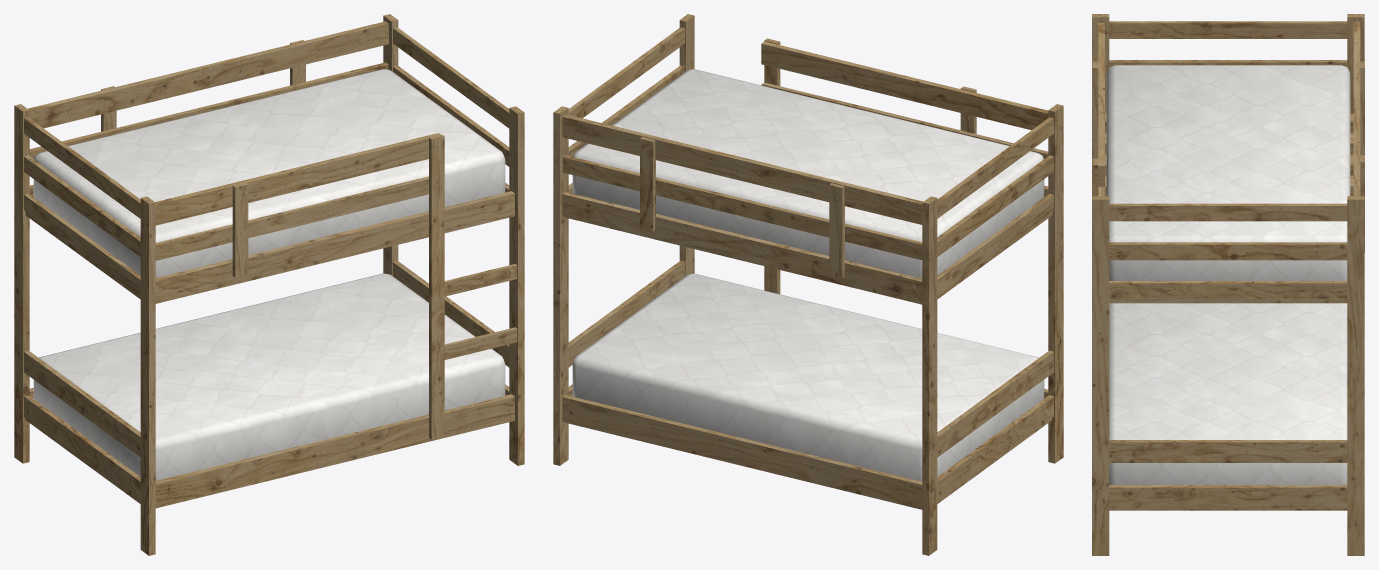
The model's file is BunkBed.fbx.
3 renders of one model, left to right at view 1: azimuth 30°, elevation 25°; view 2: azimuth 150°, elevation 25°; view 3: azimuth 270°, elevation 25°, orthographic.
Visible parts, largest first — view 1: Bed_Frame, Matress_Bottom, Matress_Top; view 2: Bed_Frame, Matress_Bottom, Matress_Top; view 3: Bed_Frame, Matress_Top, Matress_Bottom.
Boxes of the visible parts, x1,y1,x2,y2 form: Bed_Frame: (14, 14, 524, 555); Matress_Bottom: (33, 273, 505, 480); Matress_Top: (33, 69, 505, 277); Bed_Frame: (553, 14, 1063, 555); Matress_Bottom: (572, 273, 1044, 481); Matress_Top: (572, 69, 1044, 278); Bed_Frame: (1092, 14, 1364, 555); Matress_Top: (1106, 65, 1350, 280); Matress_Bottom: (1109, 303, 1347, 484).
Size of the model in its own units: 1720 by 1540 by 1069.
3 materials, 3 textured.
